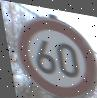Speed Limit -60-: (9, 11, 97, 98)
